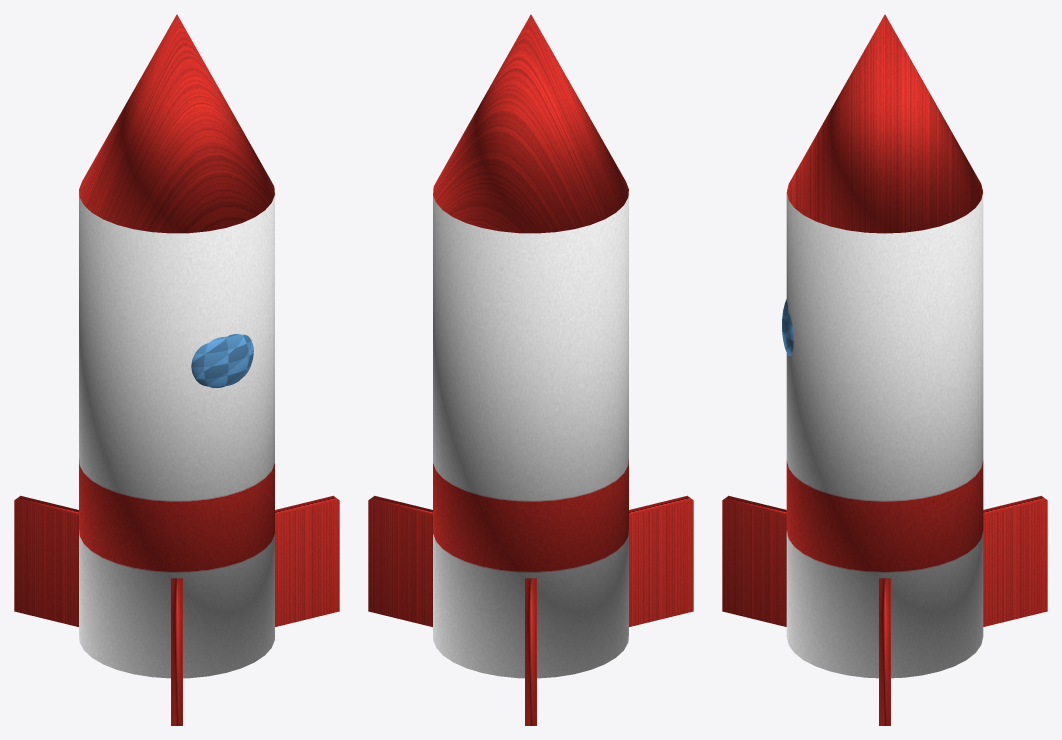
Rendered from rocket.glb.
3 views of the same model, side by side, from view 1: azimuth 30°, elevation 25°; view 2: azimuth 150°, elevation 25°; view 3: azimuth 270°, elevation 25° (orthographic).
Visible parts, largest first — view 1: Cylinder, Cone, Cube, Cube.001, Sphere, Cube.002; view 2: Cylinder, Cone, Cube, Cube.002, Cube.001; view 3: Cylinder, Cone, Cube.001, Cube.002, Cube.
Boxes of the visible parts, box(x1,y1,x2,y2) form: Cylinder: box(79, 191, 274, 678); Cone: box(79, 14, 274, 233); Cube: box(275, 495, 339, 626); Cube.001: box(14, 495, 78, 626); Sphere: box(191, 334, 253, 387); Cube.002: box(171, 578, 182, 725); Cylinder: box(433, 191, 628, 678); Cone: box(433, 14, 628, 233); Cube: box(368, 495, 432, 626); Cube.002: box(629, 495, 693, 626); Cube.001: box(525, 578, 536, 725); Cylinder: box(786, 192, 983, 678); Cone: box(787, 14, 982, 233); Cube.001: box(983, 495, 1047, 626); Cube.002: box(722, 495, 786, 626); Cube: box(879, 578, 890, 725).
Size of the model in its own units: 1.15 by 2.85 by 1.32.
Materials: 3 (3 with a texture image).
